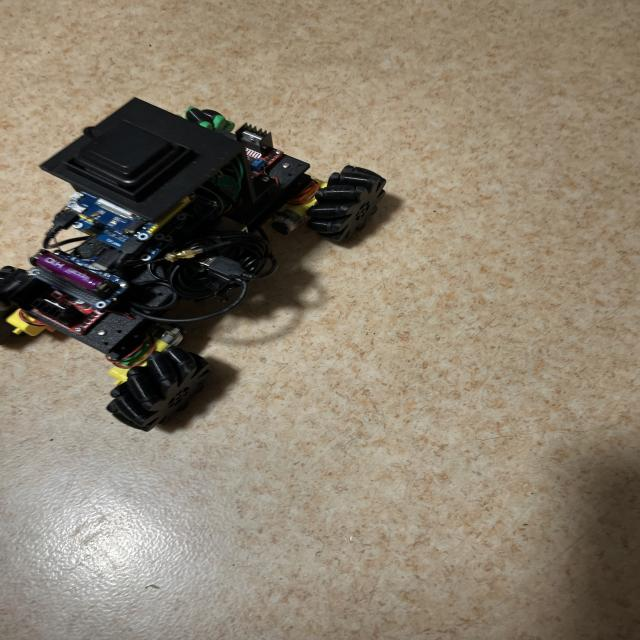robot: (0, 99, 386, 431)
